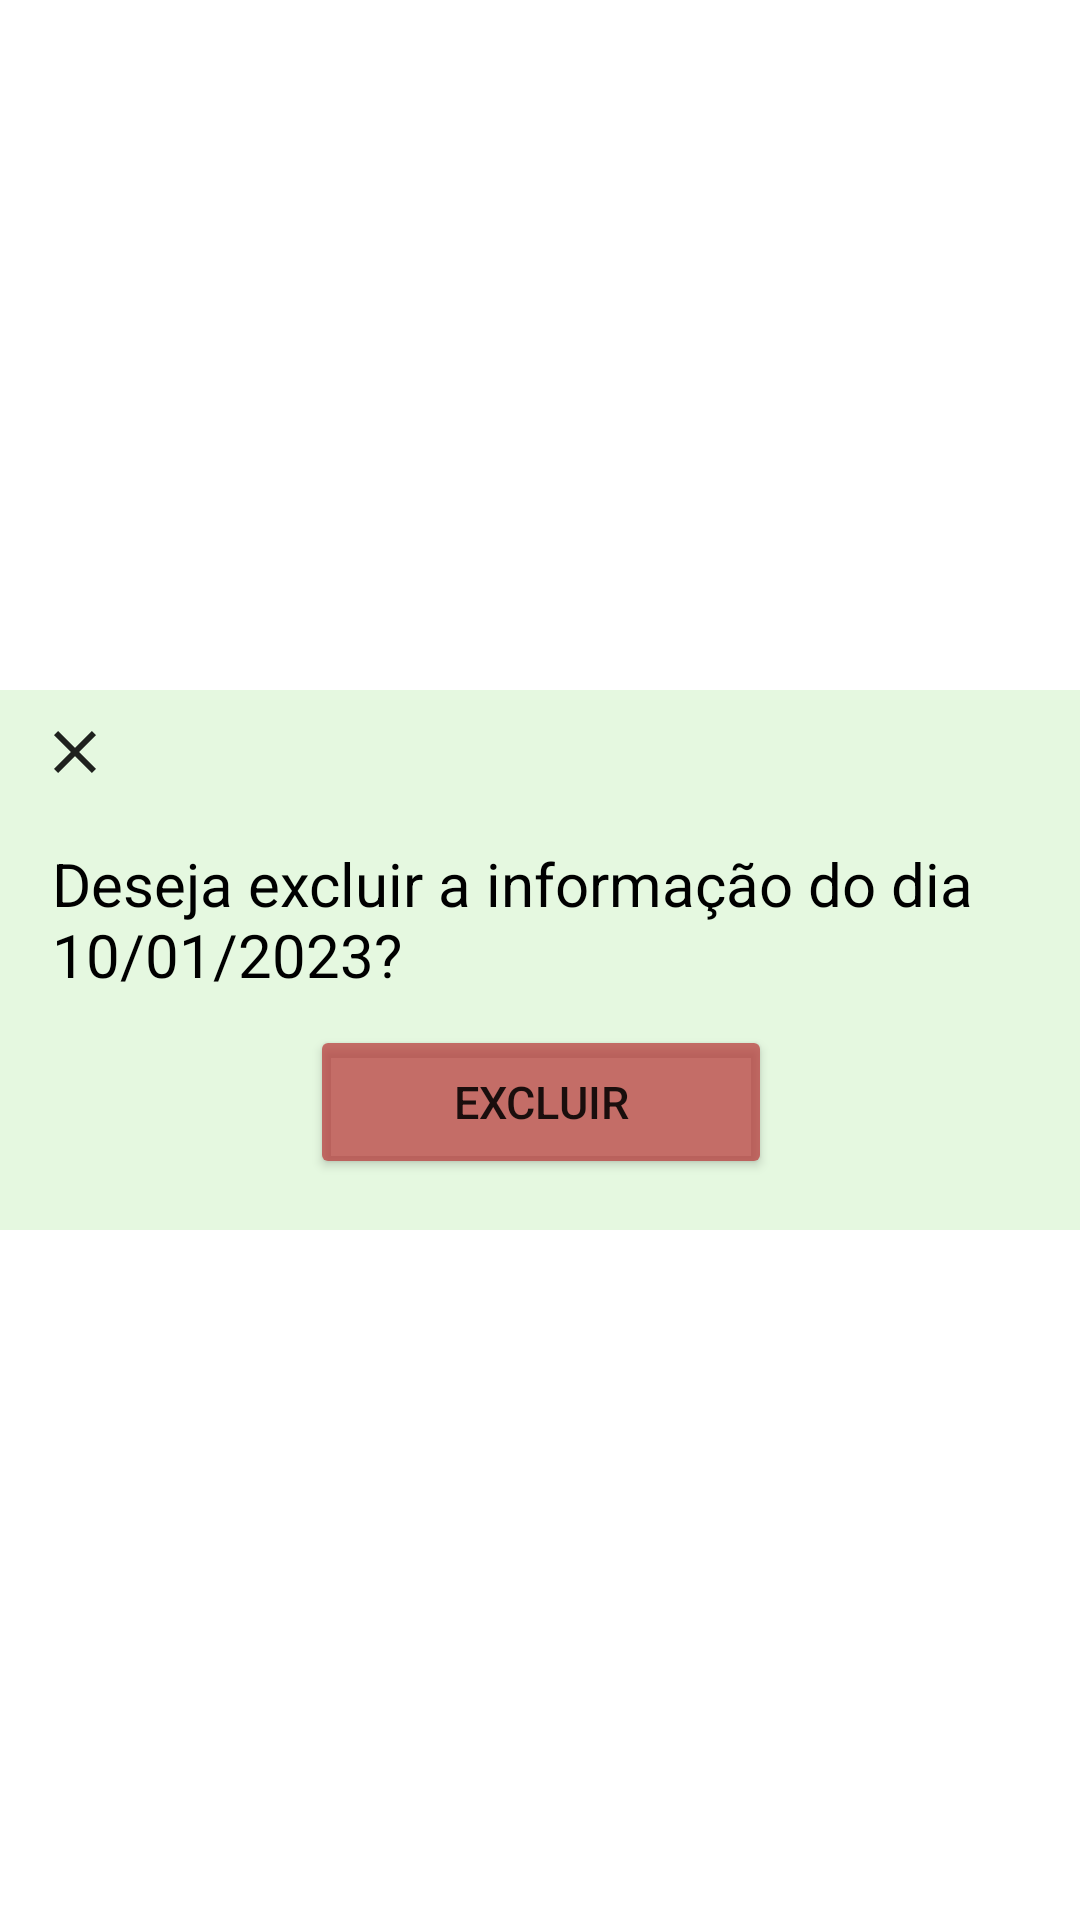

Icons on this 1080x1920 Android screen, each with the point to tap as point (x, y):
close: point (75, 752)
